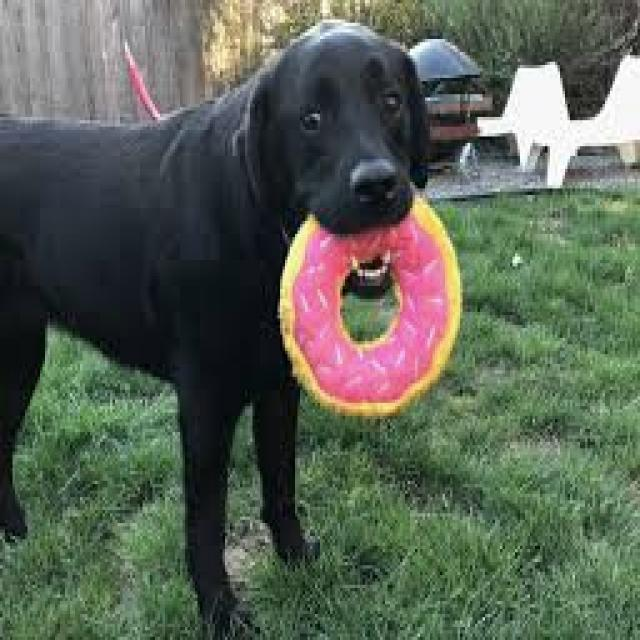dog: (0, 23, 460, 634)
